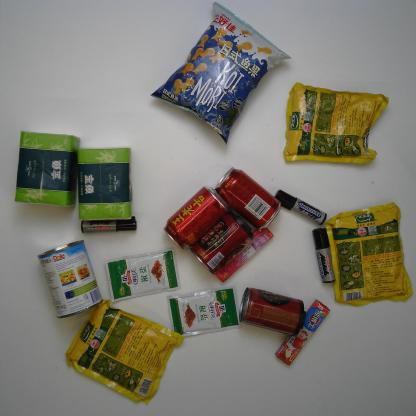Candy: (282, 292, 330, 372), (216, 222, 276, 282)
Canned Food: (33, 240, 107, 316), (239, 283, 303, 341), (195, 212, 249, 270)
Drink: (214, 163, 280, 233), (165, 184, 229, 250)
Puffed Food: (153, 0, 281, 143)
Seasoner: (64, 300, 180, 409), (281, 81, 389, 174), (327, 202, 412, 316), (100, 249, 184, 300), (163, 290, 245, 335)
Stationery: (270, 185, 330, 228), (308, 226, 348, 288), (76, 219, 141, 237)
Tissue: (74, 146, 150, 221), (11, 127, 73, 212)
